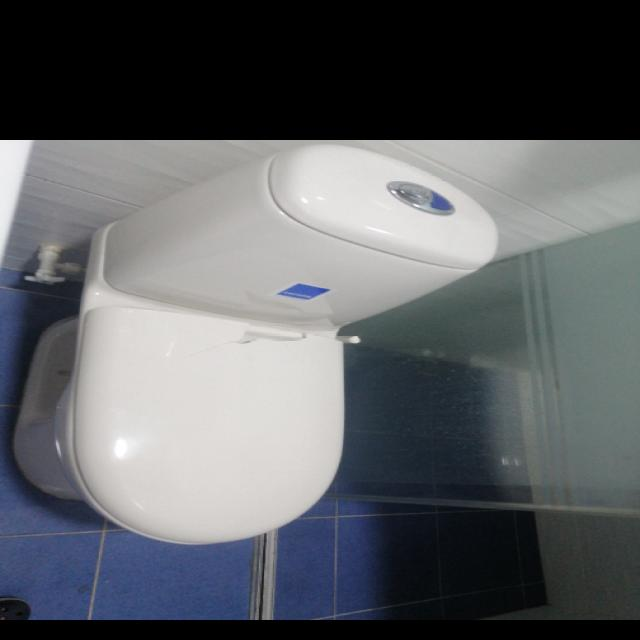toilet: (11, 143, 499, 545)
